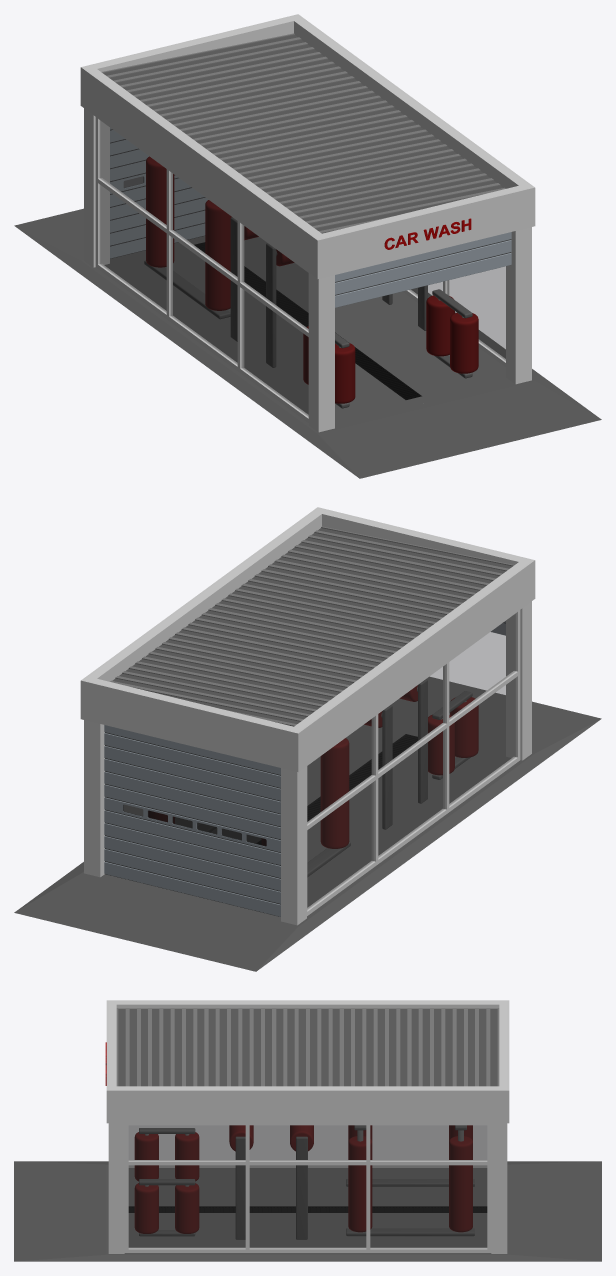
Rendered from carwash-fbx.FBX.
The picture shows the model from 3 angles, top to bottom: view 1: azimuth 30°, elevation 25°; view 2: azimuth 150°, elevation 25°; view 3: azimuth 270°, elevation 25°; orthographic projection. The views are drawn at different scales.
Visible parts, largest first — view 1: Rectangle352, Rectangle06, Line02, Rectangle05, Rectangle351, Rectangle349, Rectangle01, Rectangle07, Rectangle319, Rectangle315, ChamferCyl27, Rectangle321 (+50 smaller); view 2: Rectangle352, Rectangle06, Line02, Rectangle05, Rectangle351, Rectangle348, Rectangle315, Rectangle319, Rectangle01, ChamferCyl27, Rectangle333, Rectangle331 (+50 smaller); view 3: Rectangle07, Rectangle352, Line02, Rectangle350, Rectangle06, Rectangle05, Rectangle02, Rectangle01, Rectangle315, Rectangle04, Rectangle03, ChamferCyl30 (+38 smaller).
Part boxes in pixels (x1,y1,x2,y2): Rectangle352: [14, 208, 601, 478]; Rectangle06: [100, 121, 308, 416]; Line02: [103, 35, 503, 230]; Rectangle05: [84, 15, 531, 239]; Rectangle351: [80, 66, 319, 278]; Rectangle349: [319, 187, 532, 278]; Rectangle01: [309, 227, 531, 432]; Rectangle07: [409, 266, 505, 360]; Rectangle319: [95, 117, 308, 422]; Rectangle315: [84, 108, 109, 267]; ChamferCyl27: [205, 200, 231, 310]; Rectangle321: [335, 253, 511, 307]; Rectangle352: [14, 676, 601, 971]; Rectangle06: [307, 614, 515, 909]; Line02: [112, 528, 512, 723]; Rectangle05: [84, 508, 531, 732]; Rectangle351: [296, 559, 535, 771]; Rectangle348: [83, 680, 296, 771]; Rectangle315: [84, 720, 306, 925]; Rectangle319: [307, 610, 520, 915]; Rectangle01: [506, 601, 531, 760]; ChamferCyl27: [320, 738, 349, 848]; Rectangle333: [105, 732, 280, 916]; Rectangle331: [104, 849, 280, 903]; Rectangle07: [129, 1125, 486, 1248]; Rectangle352: [14, 1161, 601, 1261]; Line02: [118, 1008, 497, 1086]; Rectangle350: [106, 1089, 509, 1123]; Rectangle06: [129, 1125, 486, 1159]; Rectangle05: [108, 1001, 507, 1089]; Rectangle02: [124, 1123, 491, 1252]; Rectangle01: [108, 1123, 124, 1253]; Rectangle315: [491, 1123, 507, 1253]; Rectangle04: [128, 1160, 487, 1165]; Rectangle03: [128, 1247, 487, 1252]; ChamferCyl30: [449, 1136, 472, 1232].
Bounding box in the file's own units: 590 × 455 × 1460.
